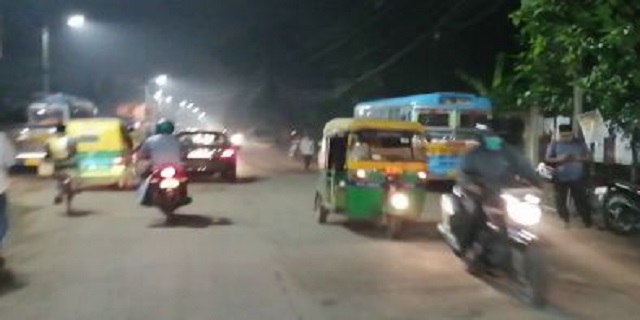Autorickshaw: (323, 119, 434, 251)
Motorbike: (448, 111, 564, 305), (137, 119, 185, 224)
